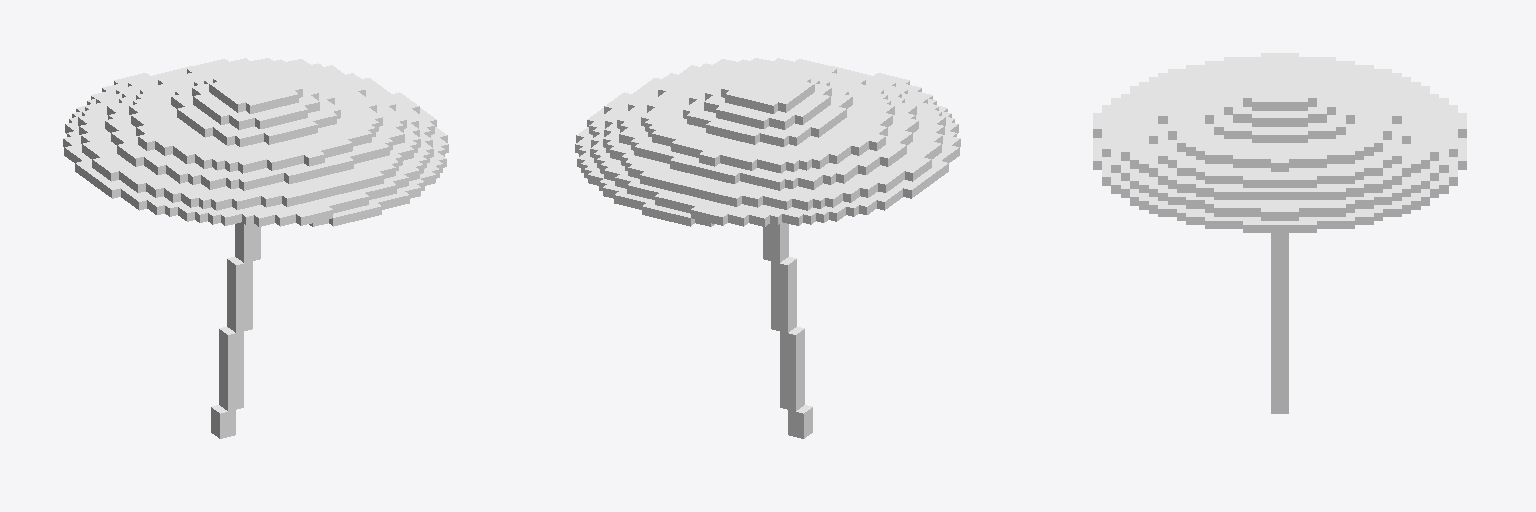
The model's file is sunshade.obj.
The picture shows the model from 3 angles: view 1: azimuth 30°, elevation 25°; view 2: azimuth 150°, elevation 25°; view 3: azimuth 270°, elevation 25°; orthographic projection.
Visible parts, largest first — view 1: object 1; view 2: object 1; view 3: object 1.
Boxes of the visible parts, <box> form: object 1: <box>63,58,448,438</box>; object 1: <box>575,58,960,438</box>; object 1: <box>1093,53,1466,413</box>.
Size of the model in its own units: 4 by 4 by 4.